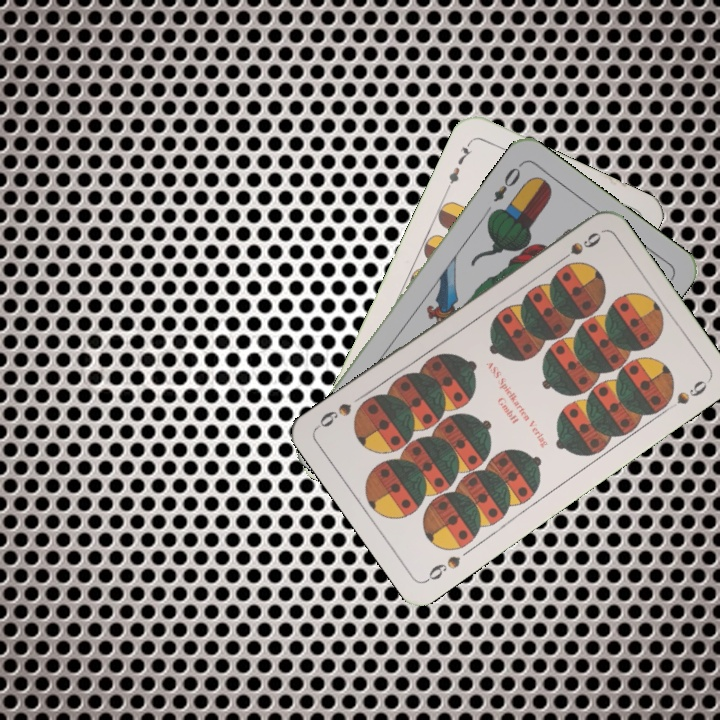E7: (442, 137, 474, 193)
EO: (489, 159, 525, 205)
S9: (552, 228, 604, 267), (421, 551, 463, 585)
